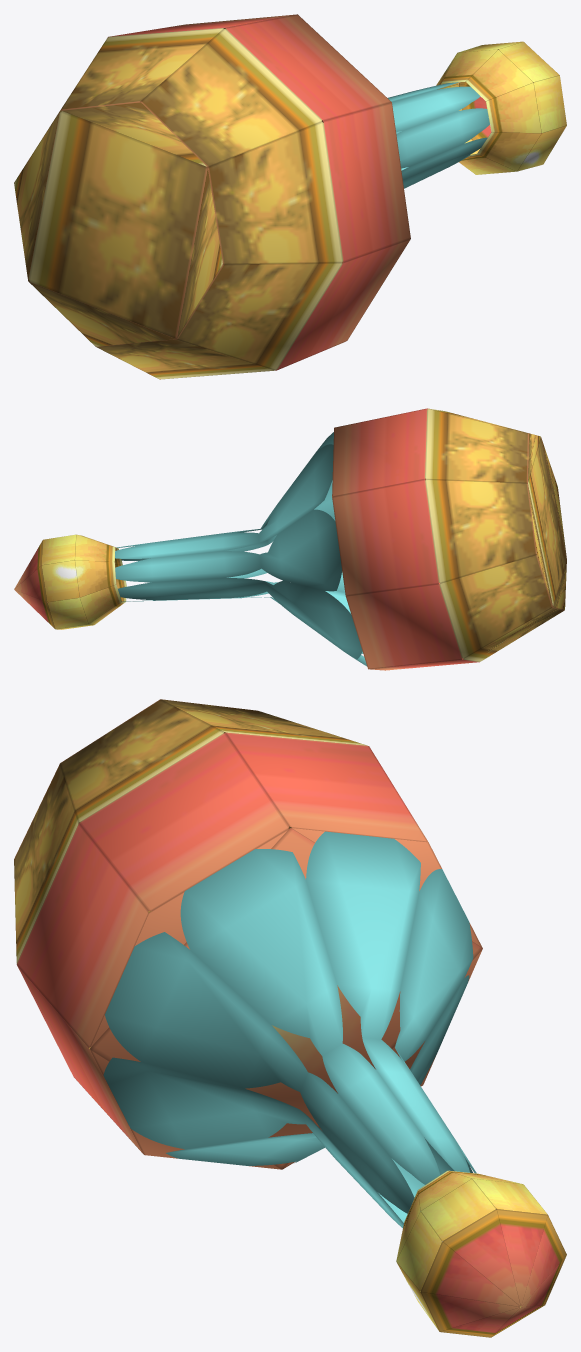
The picture shows the model from 3 angles, top to bottom: view 1: azimuth 30°, elevation 25°; view 2: azimuth 150°, elevation 25°; view 3: azimuth 270°, elevation 25°; orthographic projection. The views are drawn at different scales.
Parts seen in each view (by area): view 1: T1L5M006_19; view 2: T1L5M006_19; view 3: T1L5M006_19.
Part boxes in pixels (x1=…): T1L5M006_19: x1=14, y1=14, x2=566, y2=379; T1L5M006_19: x1=14, y1=408, x2=566, y2=670; T1L5M006_19: x1=14, y1=699, x2=566, y2=1337.
Bounding box in the file's own units: 0.3115 × 0.166 × 0.1992.
